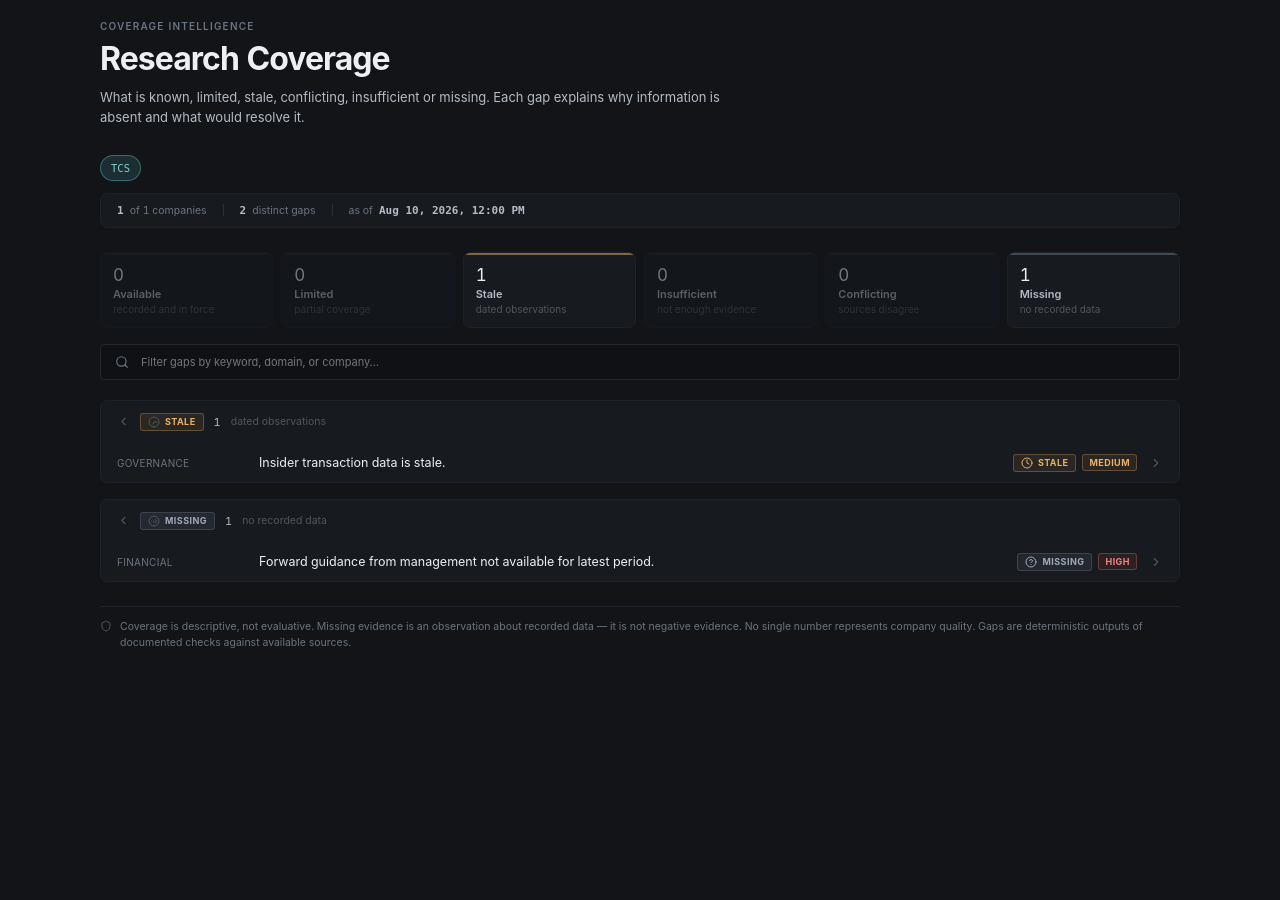
Scenario: ResearchGapsPage › expands a gap row to reveal reason and resolution
Expected: the text "Forward guidance from management" is shown, x1=259 y1=554 x2=654 y2=569
Click the button "Forward guidance from management not available": (640, 562) x1=101 y1=543 x2=1179 y2=581
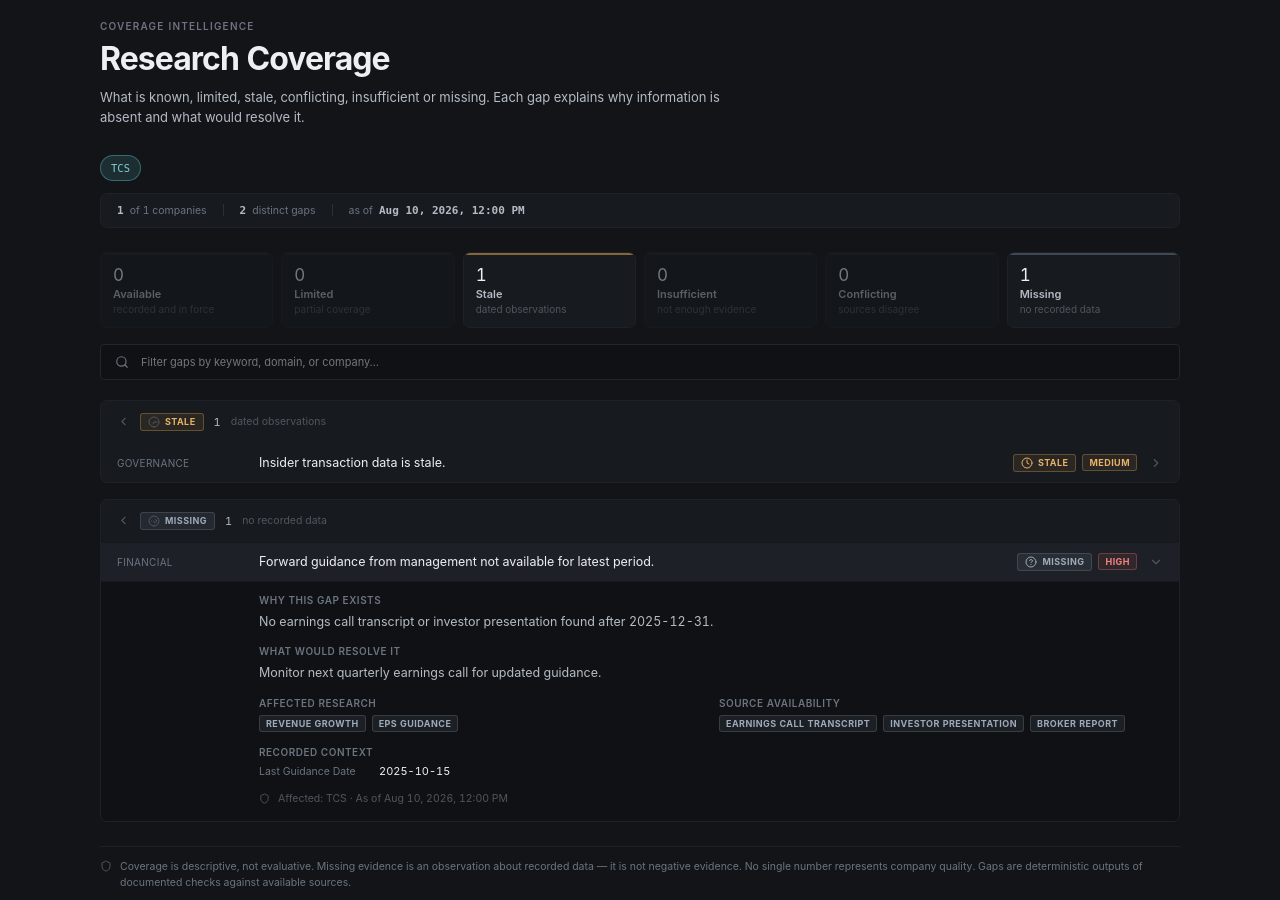
Result: the text "Why this gap exists" is shown at x1=259 y1=594 x2=381 y2=606
Result: the text "No earnings call transcript or investor presentation found" is shown at x1=259 y1=614 x2=713 y2=629
